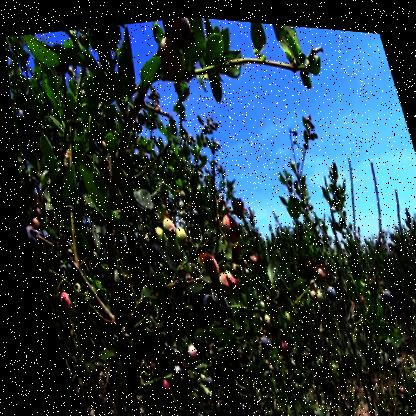intermediate: (213, 208, 239, 243), (196, 248, 218, 279), (212, 268, 233, 291), (242, 249, 257, 268), (271, 335, 285, 355), (150, 376, 163, 390)
mature: (163, 12, 200, 48), (129, 109, 147, 128), (180, 204, 197, 224), (251, 331, 266, 348), (319, 279, 333, 296)
young: (147, 212, 189, 262), (156, 32, 191, 79), (21, 224, 40, 253), (52, 289, 70, 318), (301, 282, 321, 302), (178, 341, 195, 362), (224, 256, 240, 276), (309, 260, 323, 279)
